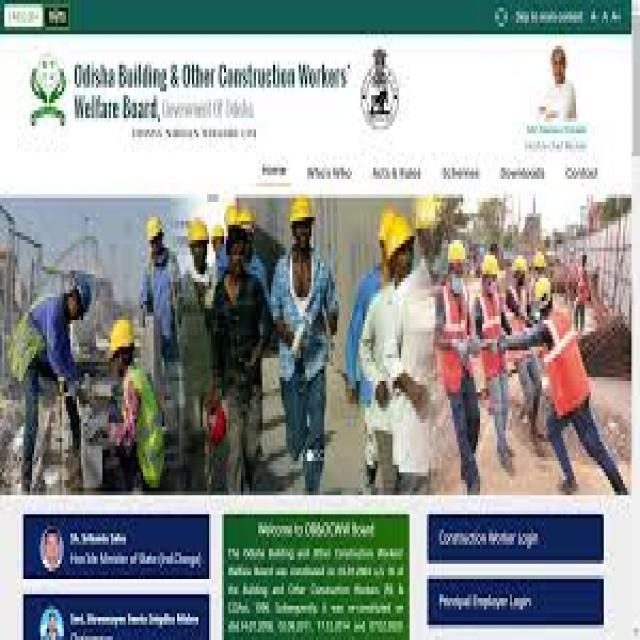reflective_jacket: (113, 365, 168, 491), (535, 308, 593, 426), (437, 281, 473, 396), (475, 293, 505, 380)
safety_helmet: (373, 202, 418, 267), (283, 182, 320, 236), (221, 194, 258, 243), (66, 262, 97, 316), (104, 312, 138, 361), (183, 209, 209, 251), (140, 209, 168, 247), (443, 236, 469, 270), (479, 251, 501, 281), (533, 251, 548, 270)
